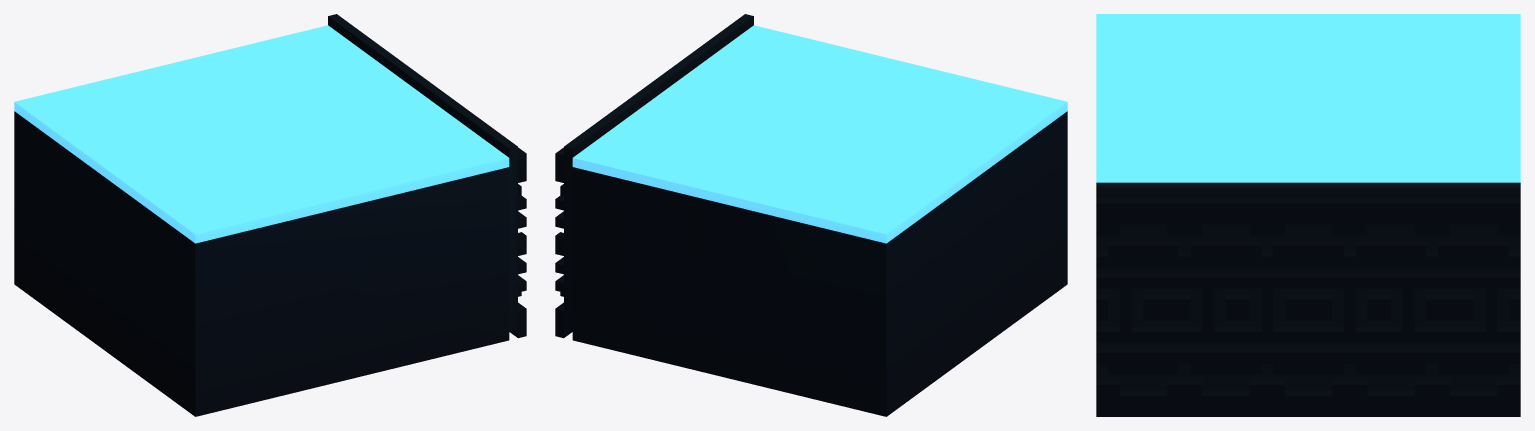
File: Block_Base_Side.glb
The picture shows the model from 3 angles, left to right: view 1: azimuth 30°, elevation 25°; view 2: azimuth 150°, elevation 25°; view 3: azimuth 270°, elevation 25°; orthographic projection. The views are drawn at different scales.
Parts seen in each view (by area): view 1: Block_Base_Side; view 2: Block_Base_Side; view 3: Block_Base_Side.
Part boxes in pixels (x1,y1,x2,y2): Block_Base_Side: (14,14,526,416); Block_Base_Side: (555,14,1067,416); Block_Base_Side: (1096,14,1520,416).
Size of the model in its own units: 0.95 by 0.525 by 0.9.
